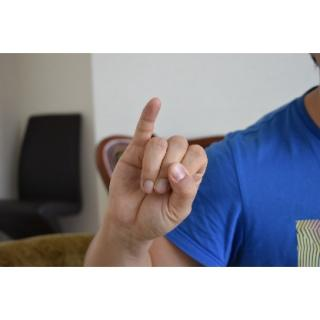MEEM: (100, 95, 210, 241)
